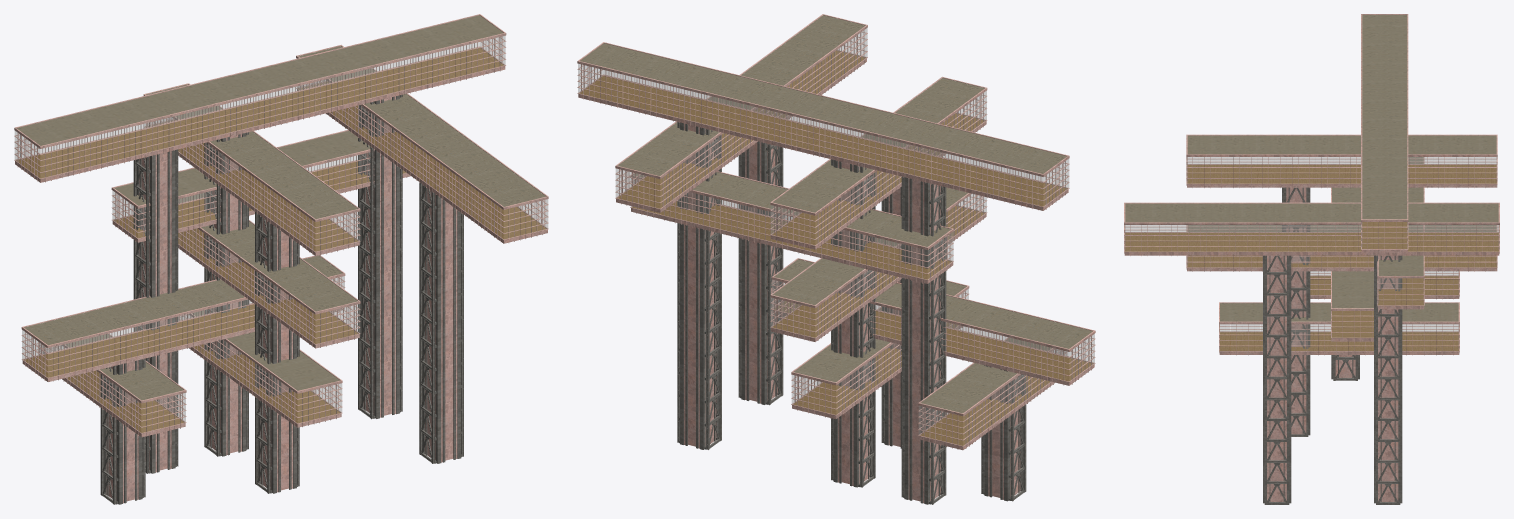
File: house.glb
3 renders of one model, left to right at view 1: azimuth 30°, elevation 25°; view 2: azimuth 150°, elevation 25°; view 3: azimuth 270°, elevation 25°, orthographic. The views are drawn at different scales.
Parts seen in each view (by area): view 1: HT_Building_0; view 2: HT_Building_0; view 3: HT_Building_0.
Boxes of the visible parts, x1,y1,x2,y2 form: HT_Building_0: [14, 14, 548, 504]; HT_Building_0: [577, 14, 1095, 504]; HT_Building_0: [1124, 14, 1499, 504].
Bounding box in the file's own units: 263 × 191 × 199.
6 materials, 5 textured.
